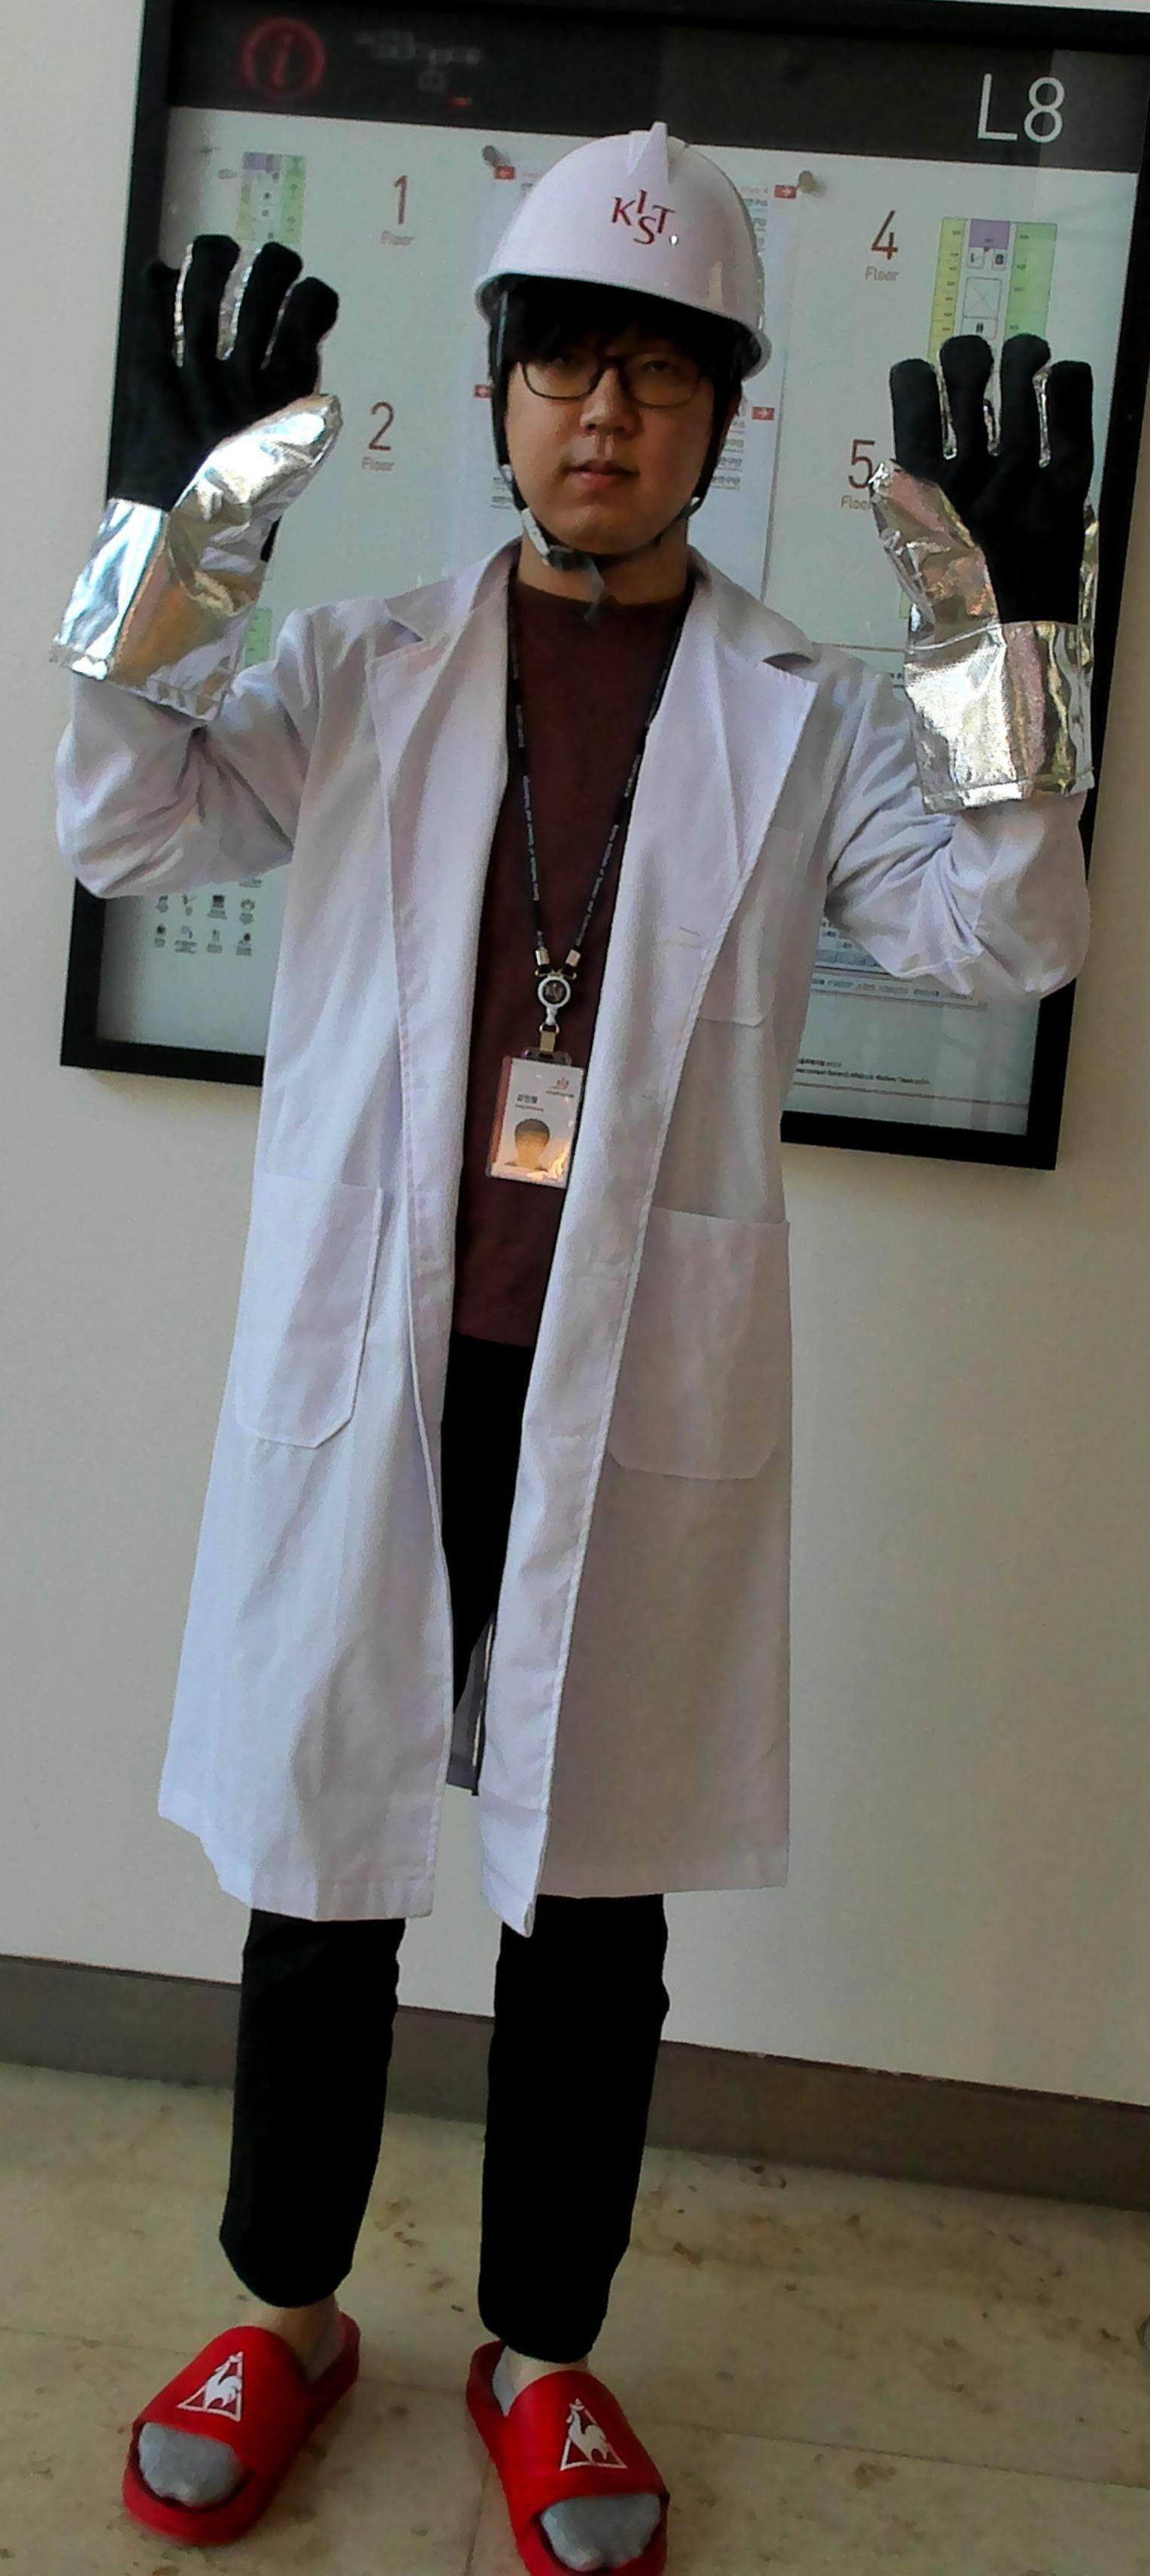lab_coat: (220, 670, 866, 1919)
